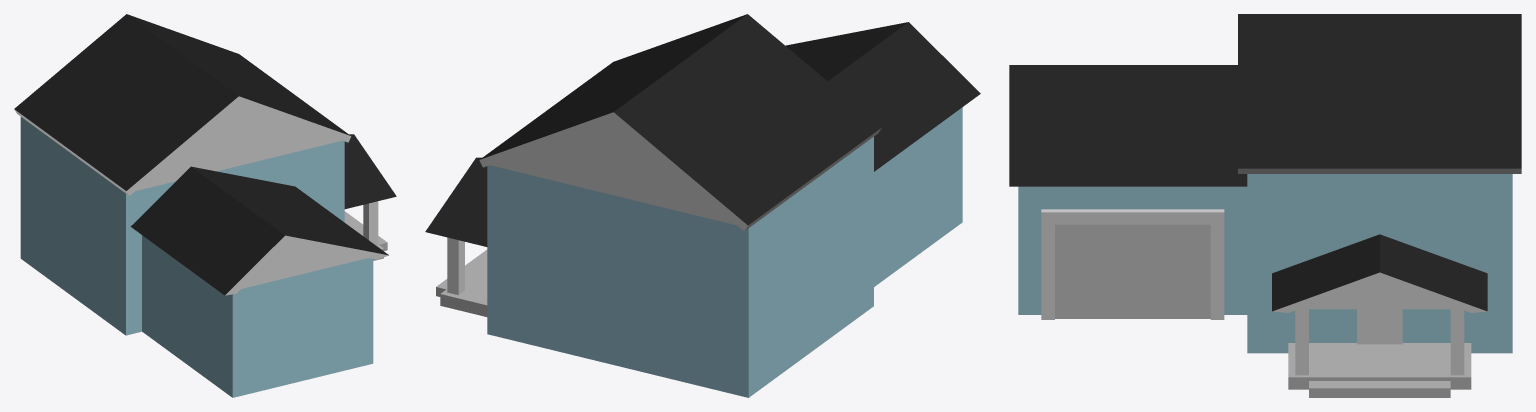
File: house.fbx
The picture shows the model from 3 angles, left to right: view 1: azimuth 30°, elevation 25°; view 2: azimuth 150°, elevation 25°; view 3: azimuth 270°, elevation 25°; orthographic projection. The views are drawn at different scales.
Parts seen in each view (by area): view 1: Cube.006; view 2: Cube.006; view 3: Cube.006.
Boxes of the visible parts, <box> form: Cube.006: <box>14,14,396,397</box>; Cube.006: <box>425,14,980,397</box>; Cube.006: <box>1009,14,1521,397</box>.
Size of the model in its own units: 923 by 663 by 1120.
